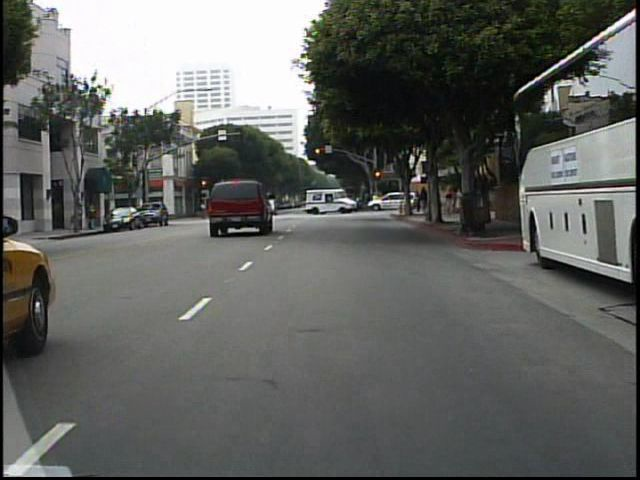person: (444, 182, 459, 221)
